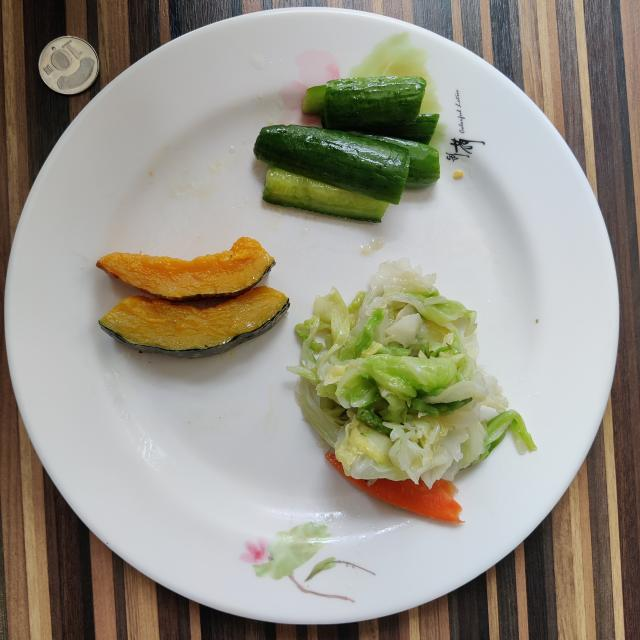cabbage: (289, 259, 536, 522)
coin: (39, 36, 99, 95)
cucumber: (254, 76, 440, 221)
pumpkin: (98, 238, 289, 358)
